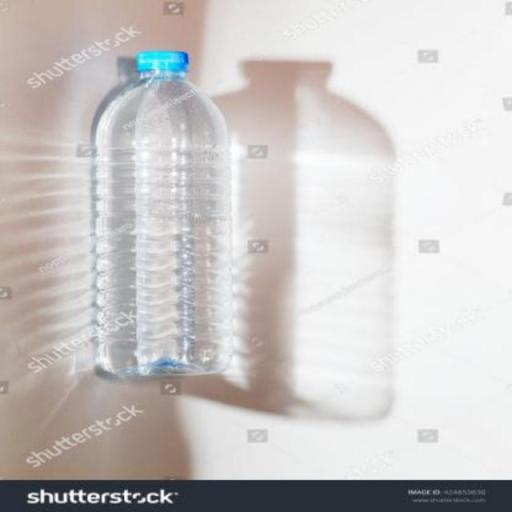Coca: (84, 46, 247, 380)
